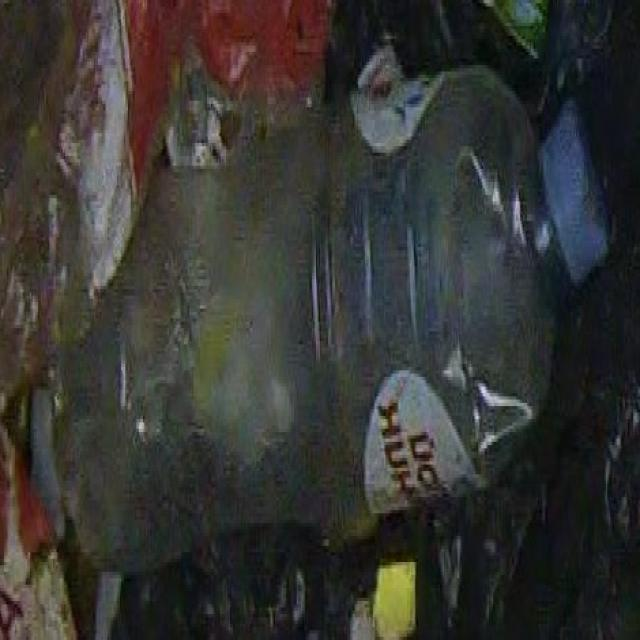litter: (67, 82, 594, 546)
